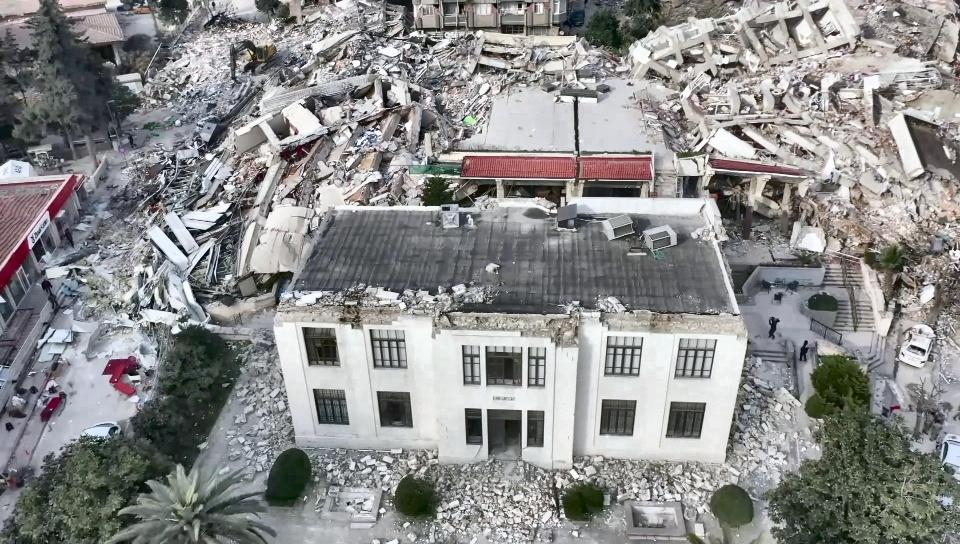kapali: (20, 0, 278, 401)
